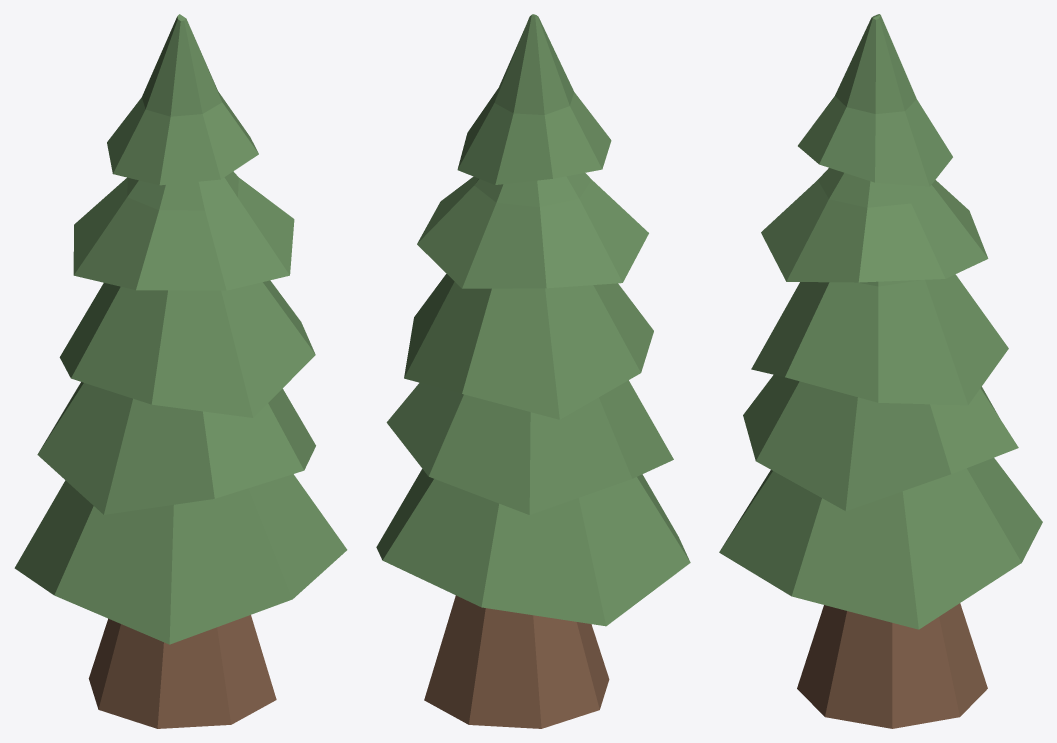
Rendered from env_tree1_mesh_01_v1.glb.
The picture shows the model from 3 angles, left to right: view 1: azimuth 30°, elevation 25°; view 2: azimuth 150°, elevation 25°; view 3: azimuth 270°, elevation 25°; orthographic projection.
Visible parts, largest first — view 1: Tree1_LOD0; view 2: Tree1_LOD0; view 3: Tree1_LOD0.
Boxes of the visible parts, left/top/right/bottom form: Tree1_LOD0: left=14, top=14, right=347, bottom=728; Tree1_LOD0: left=376, top=14, right=690, bottom=728; Tree1_LOD0: left=719, top=14, right=1042, bottom=728.
Size of the model in its own units: 4.63 by 10.73 by 4.7.
